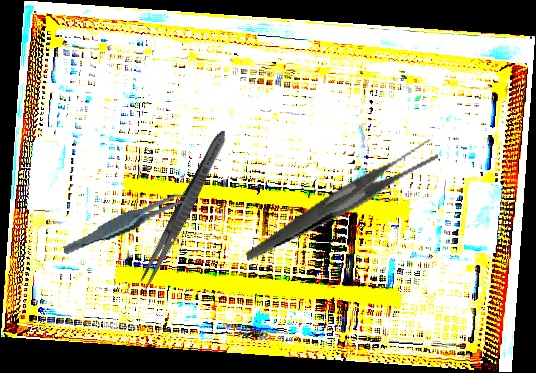Dressing Forceps: (230, 138, 452, 261), (134, 126, 232, 296)
Tissue Forceps: (57, 191, 196, 256)
